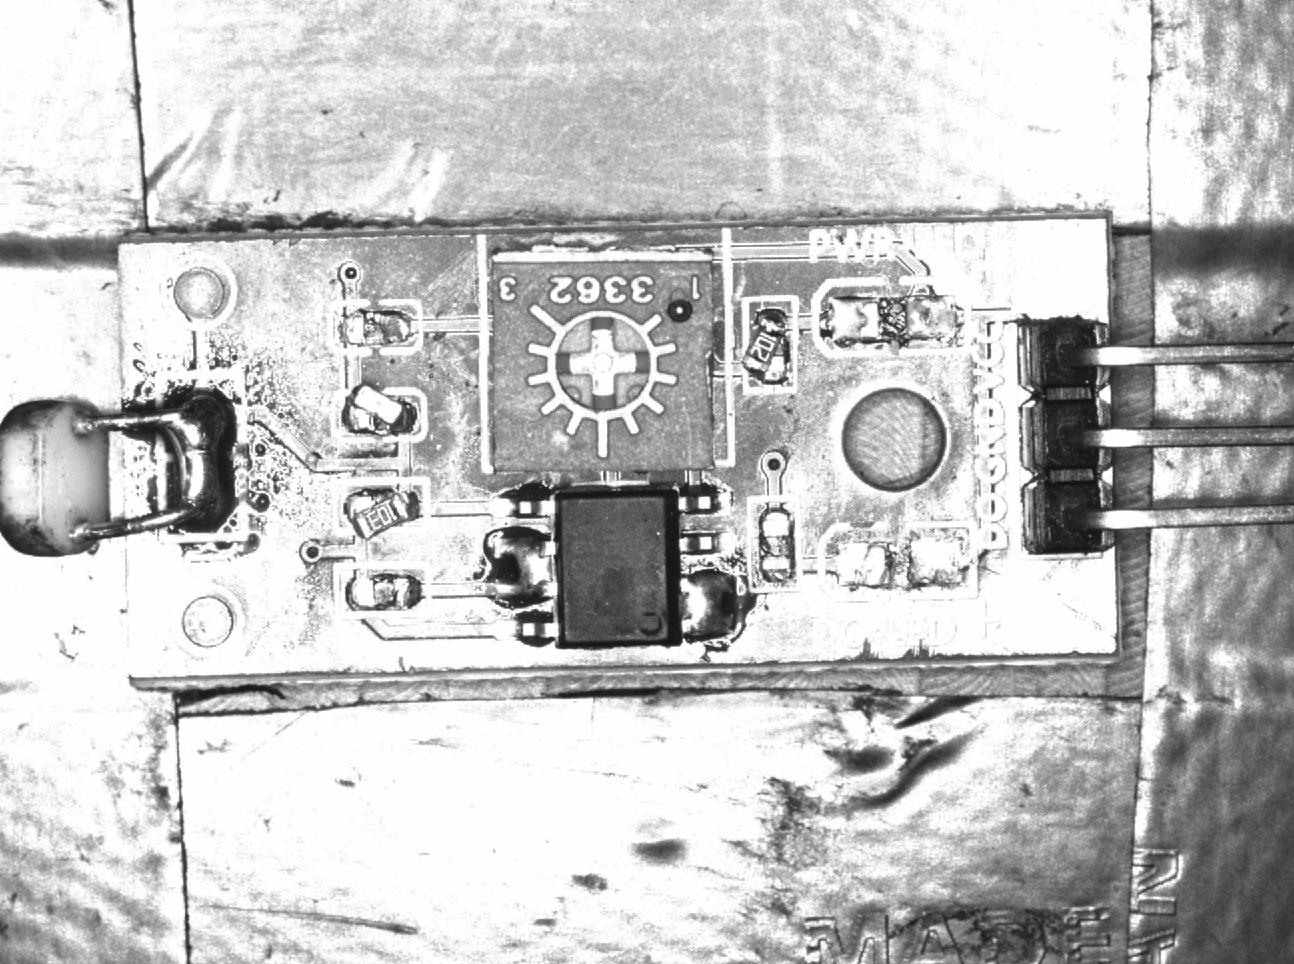bridge: (163, 390, 248, 539), (482, 527, 557, 611), (678, 568, 747, 646)
lifted: (331, 479, 432, 540), (330, 387, 432, 440), (743, 299, 797, 392)
miss: (335, 560, 433, 620), (750, 493, 800, 589), (330, 301, 418, 353)
